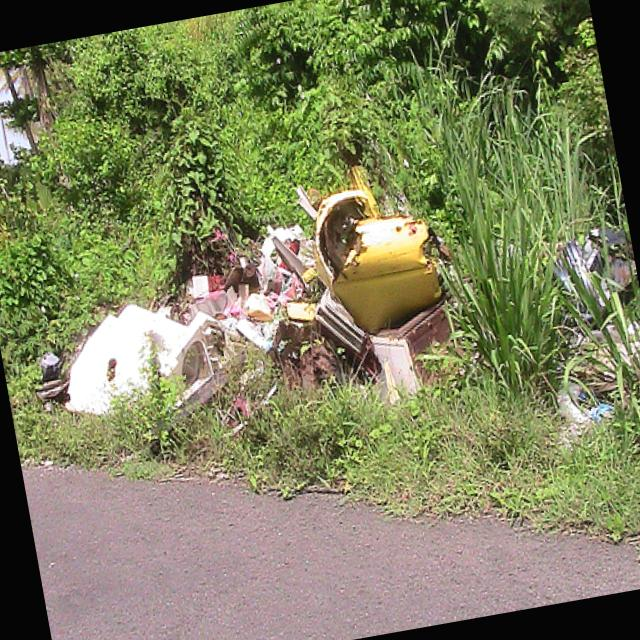garbage: (14, 128, 640, 518)
